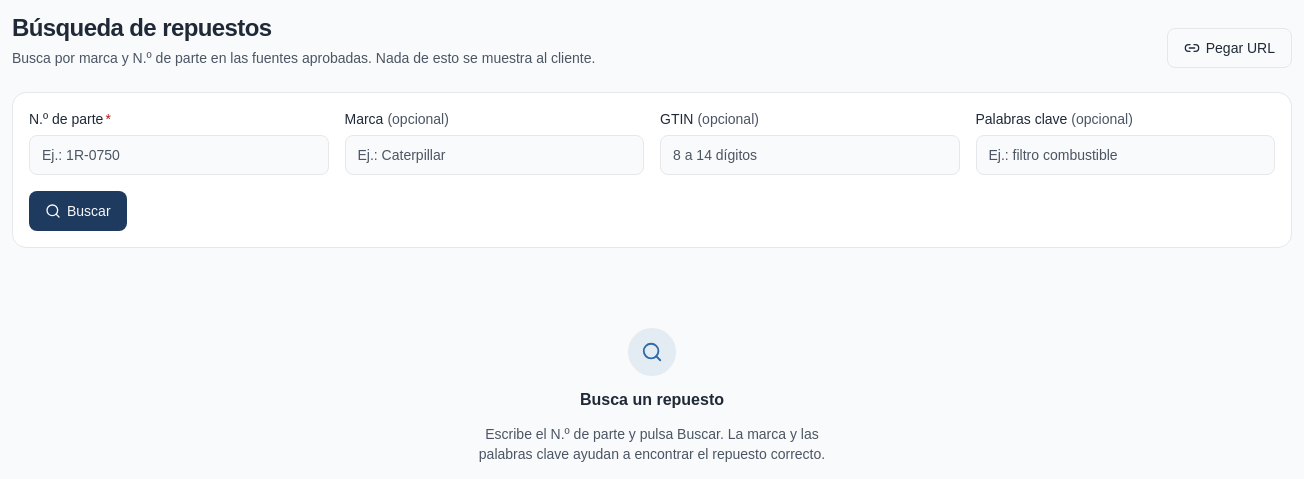
Scenario: BusquedaPage › si Mercado Libre no responde, eBay sigue visible y se lee el fallo
In the field labelled "N.º de parte*": {"x": 179, "y": 155} 29,135 -> 328,175, type "1R-0750"
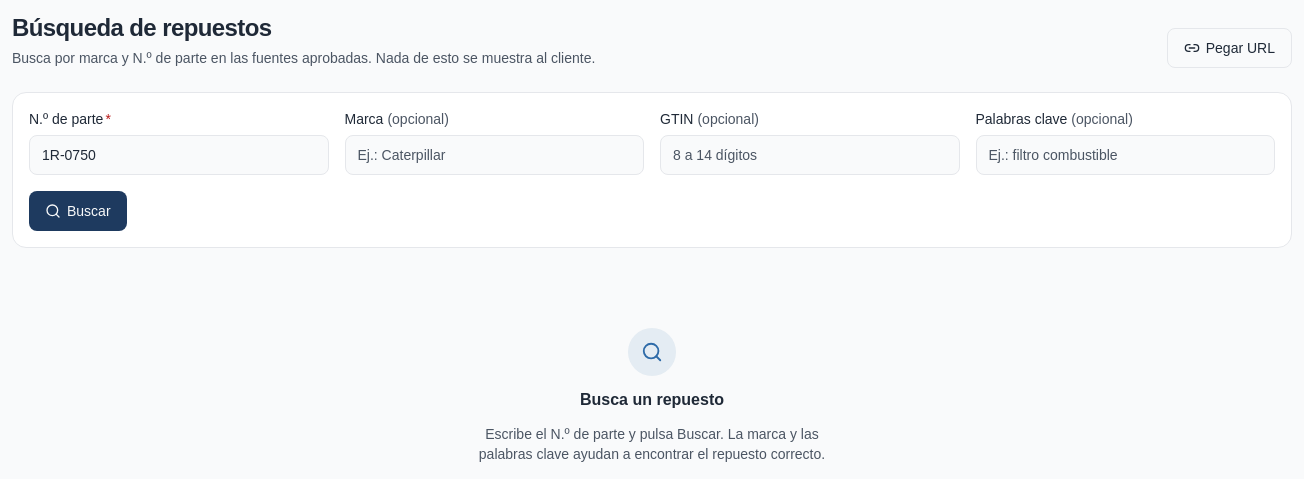
Click the button "Buscar": {"x": 78, "y": 211} 29,191 -> 127,231
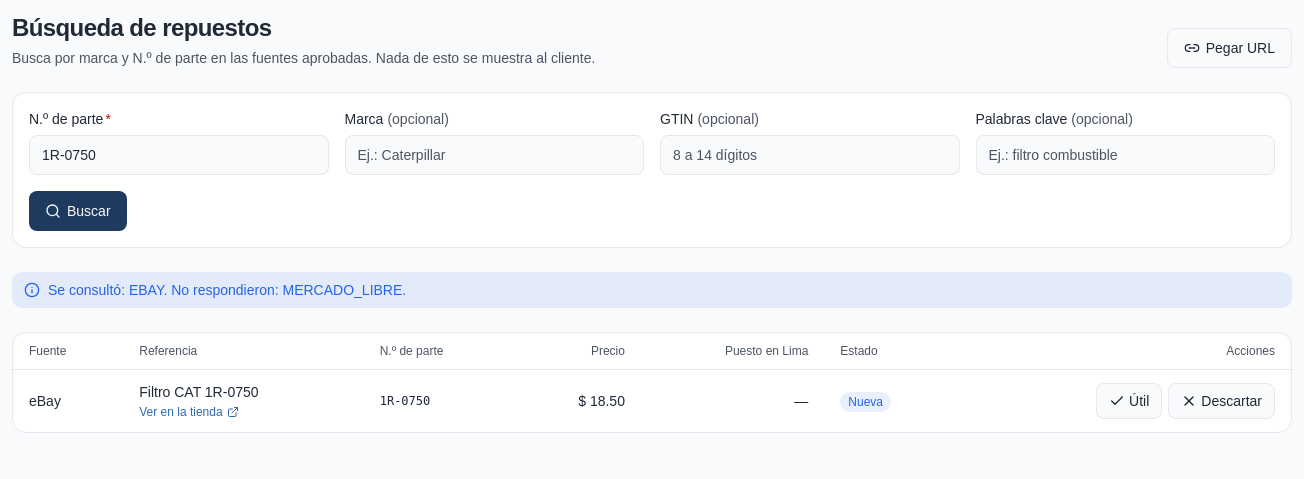
Now the text "Filtro CAT 1R-0750" is shown, box 139,384 -> 258,400
Now the text "eBay" is shown, box 13,370 -> 123,432
Now the text "Se consultó: EBAY. No respondieron: MERCADO_LIBRE." is shown, box 12,272 -> 1292,308
